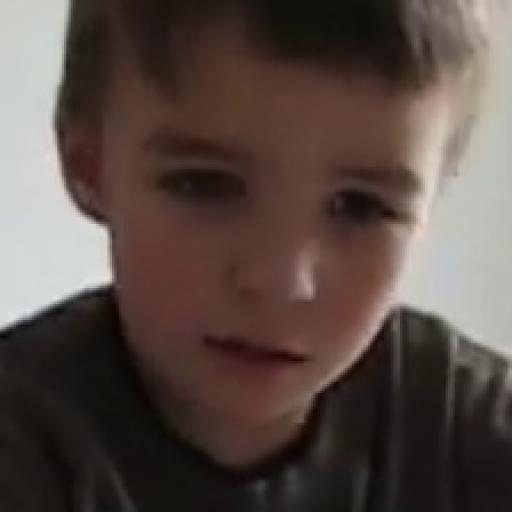Autism: (59, 1, 471, 512)
